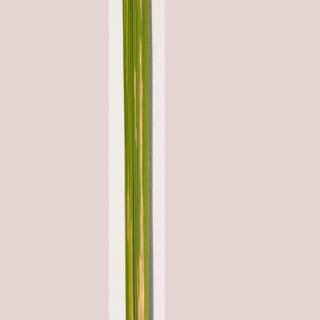Hawar-Daun: (121, 1, 156, 318)
